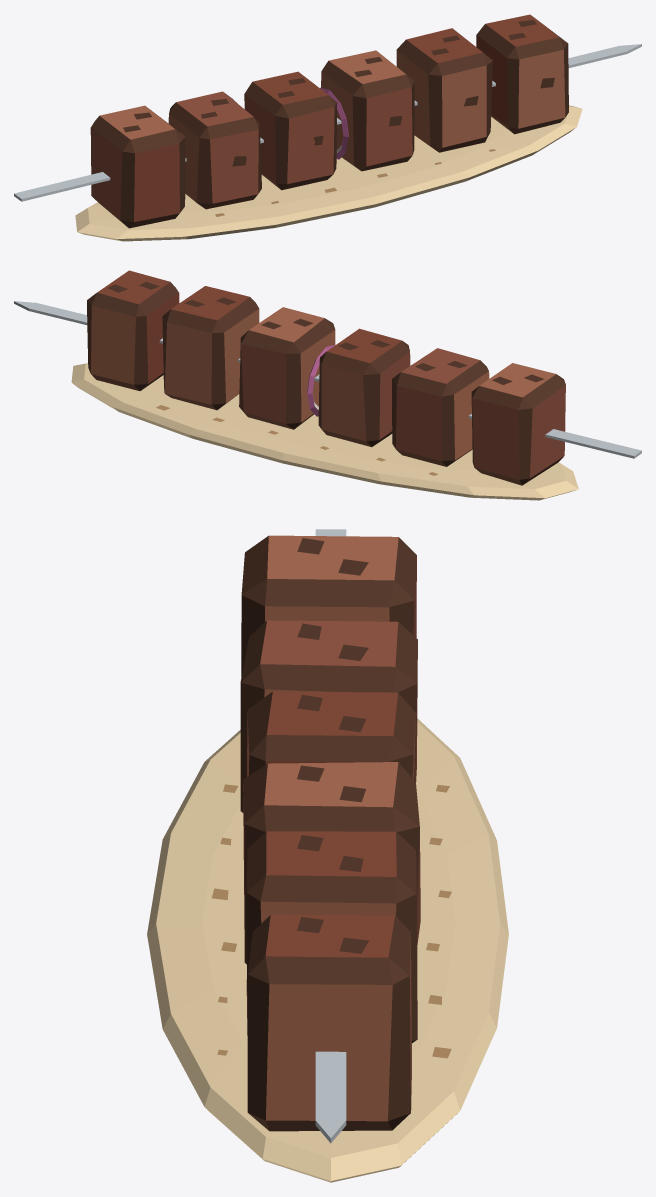
Rendered from mutton-skewer.glb.
The picture shows the model from 3 angles, top to bottom: view 1: azimuth 30°, elevation 25°; view 2: azimuth 150°, elevation 25°; view 3: azimuth 270°, elevation 25°; orthographic projection. The views are drawn at different scales.
Visible parts, largest first — view 1: mutton-skewer; view 2: mutton-skewer; view 3: mutton-skewer.
Part boxes in pixels (x1=…): mutton-skewer: x1=14, y1=14, x2=641, y2=241; mutton-skewer: x1=14, y1=270, x2=641, y2=500; mutton-skewer: x1=147, y1=529, x2=508, y2=1182.
Size of the model in its own units: 0.6 by 0.0951 by 0.1507.
